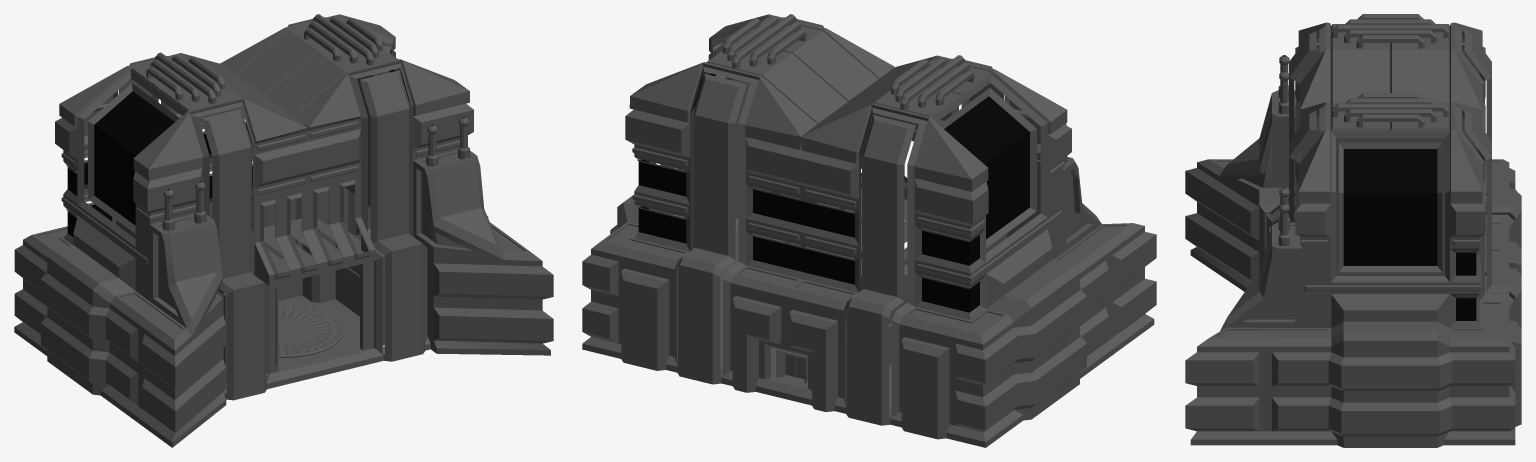
File: MediumVehicleAssembly.dae
The picture shows the model from 3 angles, left to right: view 1: azimuth 30°, elevation 25°; view 2: azimuth 150°, elevation 25°; view 3: azimuth 270°, elevation 25°; orthographic projection. The views are drawn at different scales.
Visible parts, largest first — view 1: MediumVehicleAssembly; view 2: MediumVehicleAssembly; view 3: MediumVehicleAssembly.
Part boxes in pixels (left/top/right/bottom): MediumVehicleAssembly: left=14, top=14, right=553, bottom=447; MediumVehicleAssembly: left=582, top=14, right=1156, bottom=447; MediumVehicleAssembly: left=1185, top=14, right=1521, bottom=447.
Bounding box in the file's own units: 37.93 × 26.94 × 25.25.
